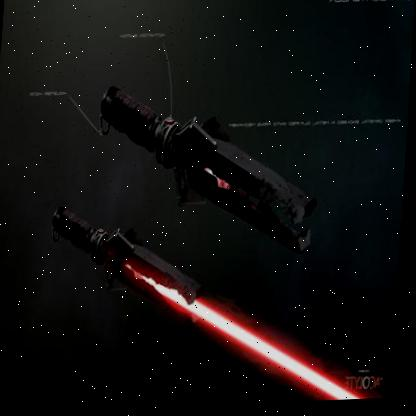sith_lightsaber: (30, 188, 389, 401)
